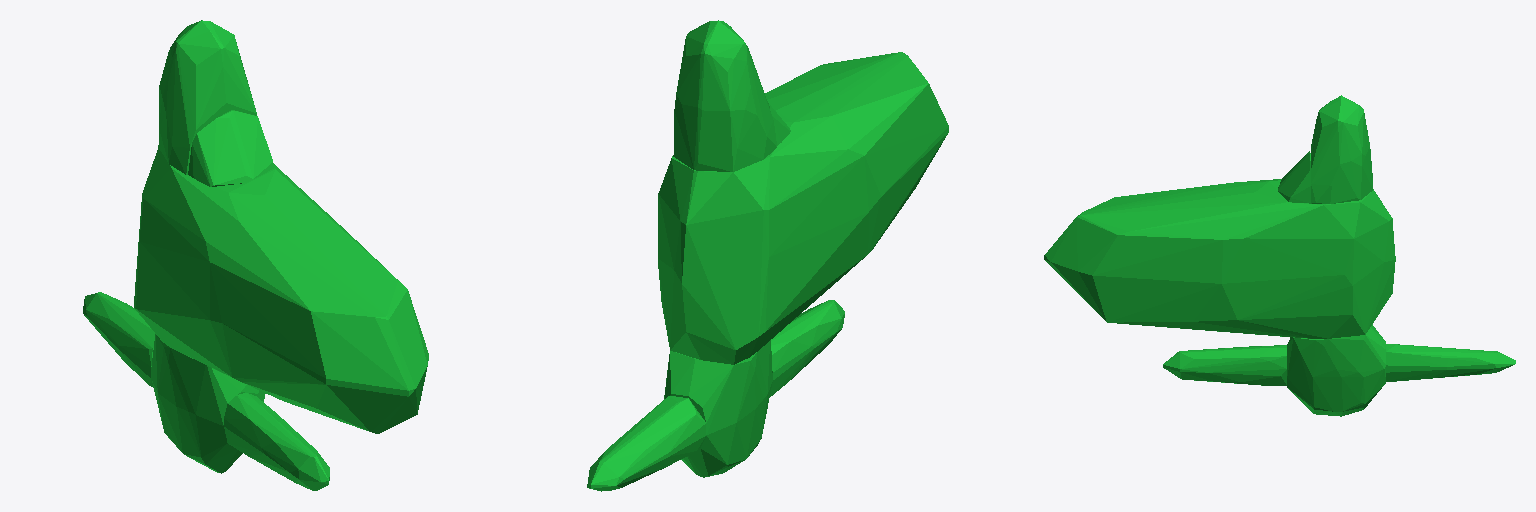
robot.urdf — blob557:
<robot name="blob557">
  <link name="random_obj_557">
    <contact>
      <lateral_friction value="1.0"/>
      <rolling_friction value="0.0"/>
      <inertia_scaling value="3.0"/>
      <contact_cfm value="0.0"/>
      <contact_erp value="1.0"/>
    </contact>
    <inertial>
      <origin rpy="0 0 0" xyz="0 0 0"/>
      <mass value="0.1"/>
      <inertia ixx="1" ixy="0" ixz="0" iyy="1" iyz="0" izz="0"/>
    </inertial>
    <visual>
      <origin rpy="0 0 0" xyz="0 0 0"/>
      <geometry>
        <mesh filename="557.obj" scale="0.015 0.015 0.015"/>
      </geometry>
      <material name="blockmat">
        <color rgba="0.16 0.77 0.28 1"/>
      </material>
    </visual>
    <collision>
      <origin rpy="0 0 0" xyz="0 0 0"/>
      <geometry>
        <mesh filename="557.obj" scale="0.015 0.015 0.015"/>
      </geometry>
    </collision>
  </link>
</robot>

--- Render facts (derived) ---
The picture shows the robot from 3 angles, left to right: view 1: azimuth 30°, elevation 25°; view 2: azimuth 150°, elevation 25°; view 3: azimuth 270°, elevation 25°; orthographic projection.
Robot: blob557 — 1 links, 0 joints (none); root link random_obj_557; default pose: all joints at 0.
Links seen in each view (by area): view 1: random_obj_557; view 2: random_obj_557; view 3: random_obj_557.
Boxes of the visible links, x1=… form: random_obj_557: x1=83, y1=20, x2=428, y2=490; random_obj_557: x1=587, y1=20, x2=948, y2=491; random_obj_557: x1=1044, y1=95, x2=1515, y2=416.
Bounding box of the posed robot: 0.0298 × 0.1204 × 0.0902 m (x, y, z).
1 mesh visuals loaded from 1 distinct referenced files (1 OBJ).